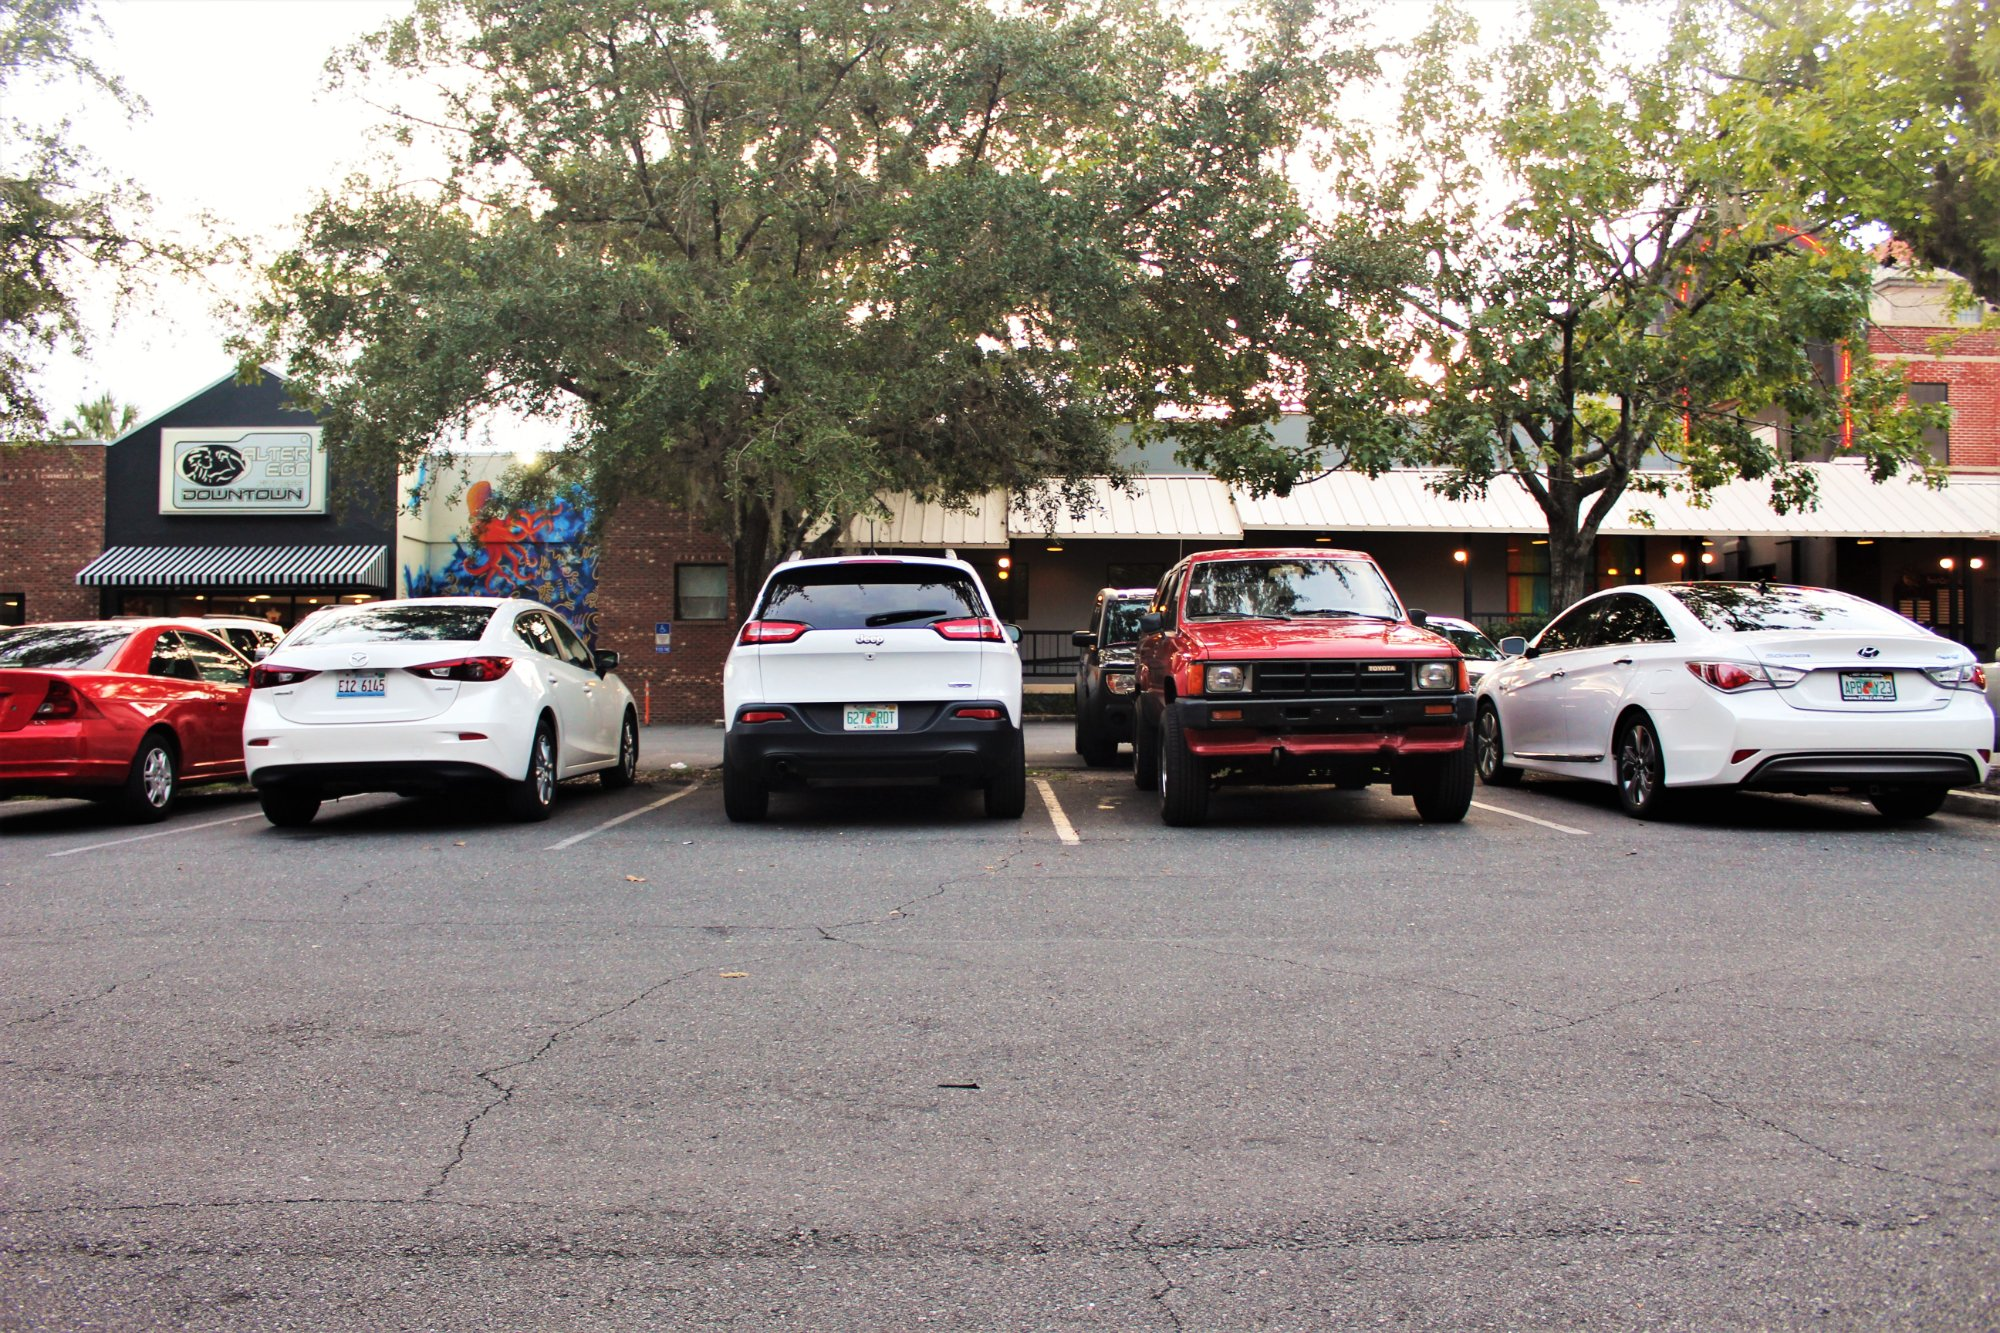car: (1480, 577, 1984, 823), (1129, 524, 1480, 835), (230, 595, 645, 820), (723, 547, 1022, 824), (4, 611, 262, 809)
